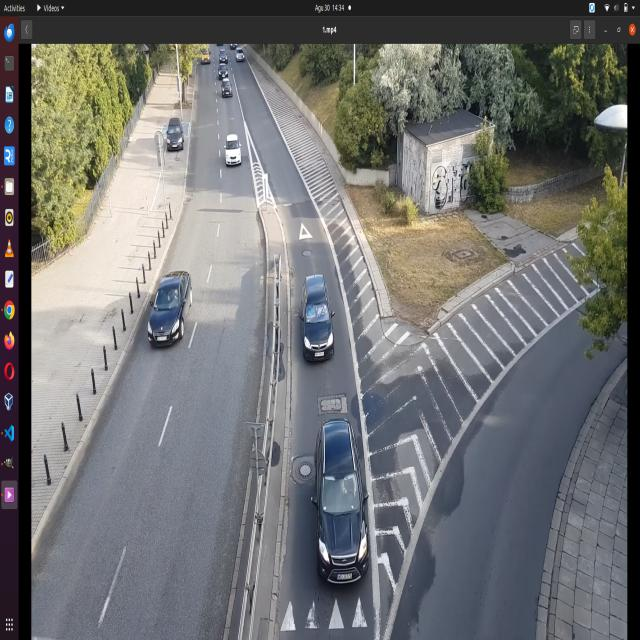person_without_seatbelt: (340, 469, 360, 499), (305, 304, 315, 324), (318, 300, 327, 319)
